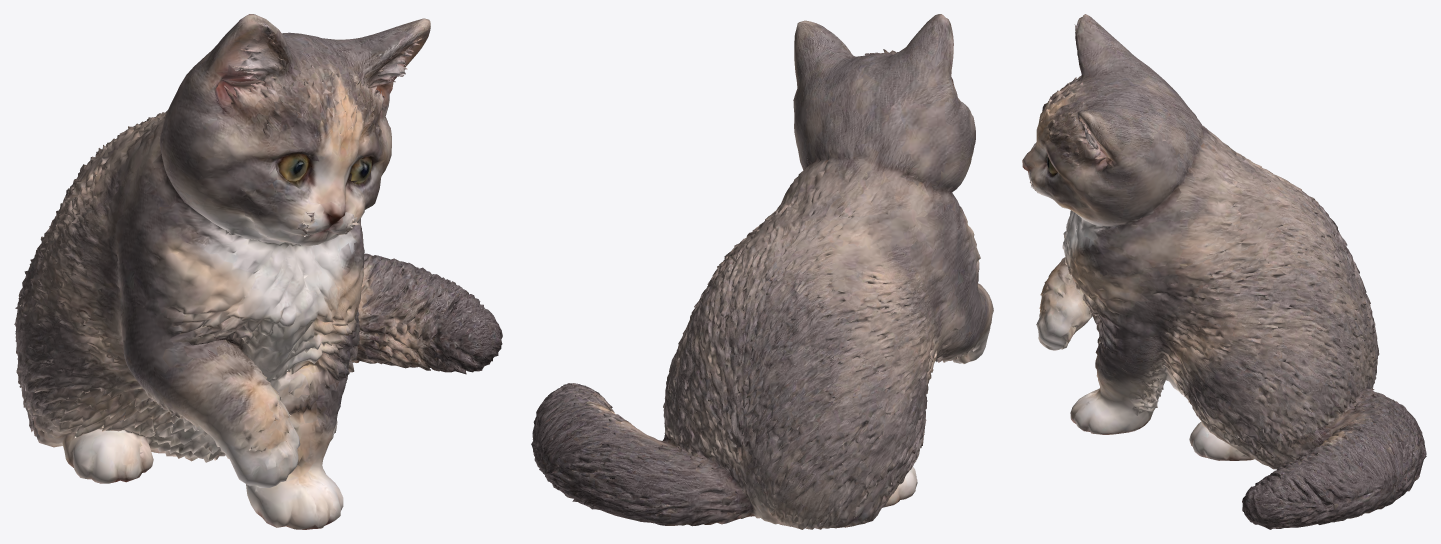
File: kitten.glb
3 views of the same model, side by side, from view 1: azimuth 30°, elevation 25°; view 2: azimuth 150°, elevation 25°; view 3: azimuth 270°, elevation 25° (orthographic). The views are drawn at different scales.
Bounding box in the file's own units: 0.231 × 0.2498 × 0.2366.
Materials: 1 (1 with a texture image).
